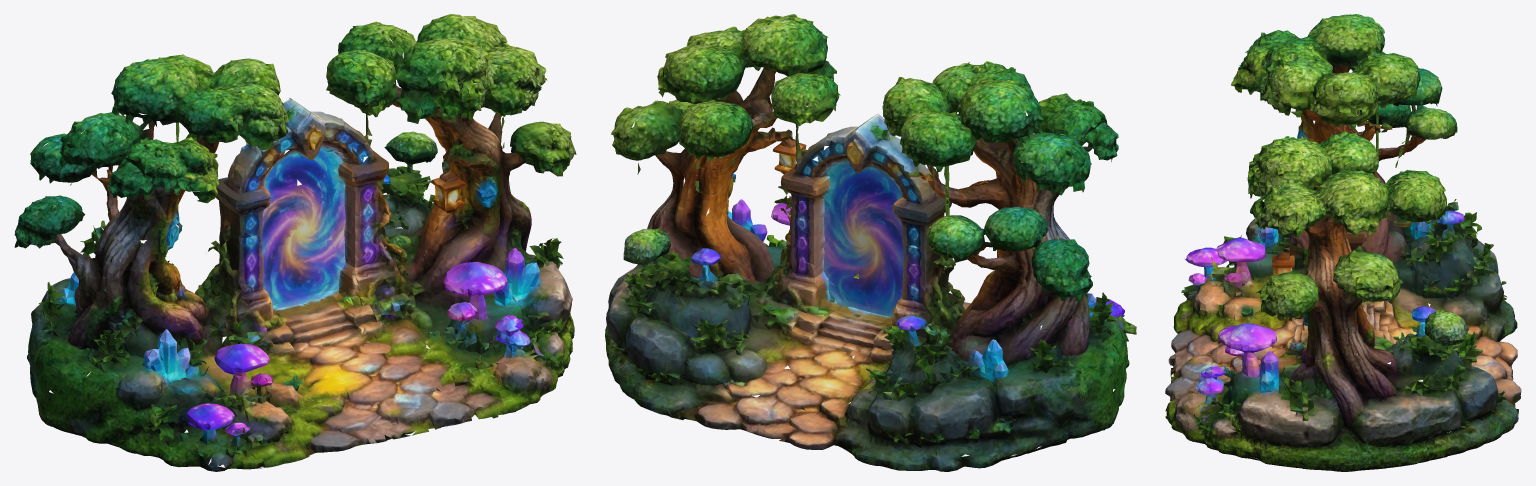
File: portal.glb
The picture shows the model from 3 angles, left to right: view 1: azimuth 30°, elevation 25°; view 2: azimuth 150°, elevation 25°; view 3: azimuth 270°, elevation 25°; orthographic projection. The views are drawn at different scales.
Parts seen in each view (by area): view 1: plush; view 2: plush; view 3: plush.
Boxes of the visible parts, box(x1,y1,x2,y2) form: plush: box(14, 14, 576, 471); plush: box(605, 14, 1136, 471); plush: box(1165, 14, 1521, 471).
Size of the model in its own units: 0.9753 by 0.6163 by 0.6783.
Materials: 1 (1 with a texture image).
